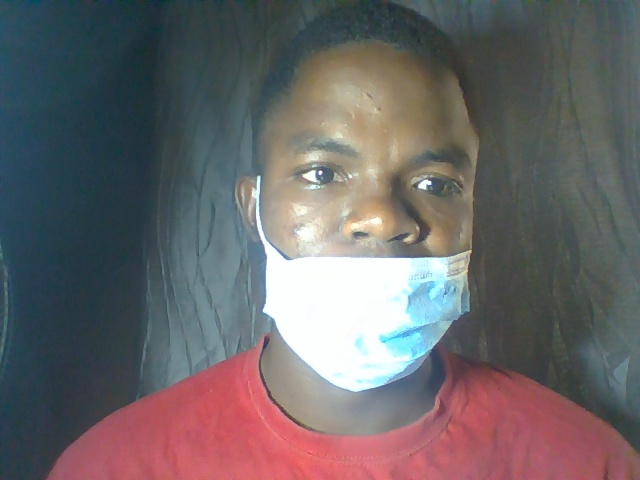MaskOff: (231, 5, 503, 414)
